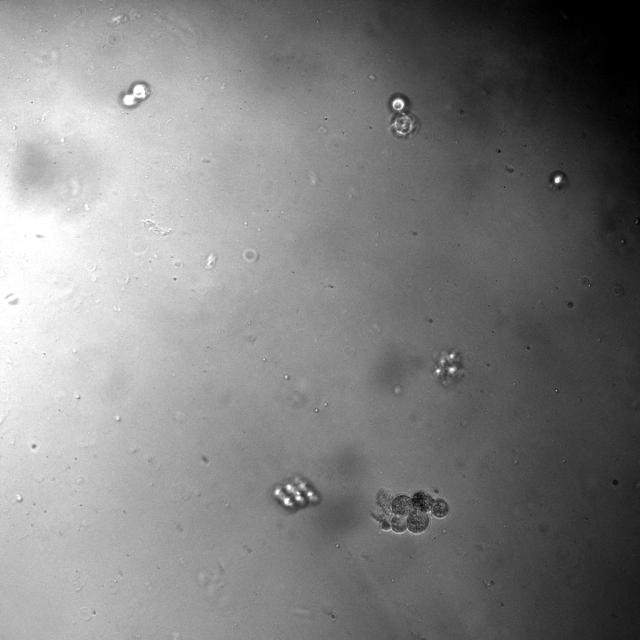organoid: (371, 487, 450, 535), (271, 476, 321, 512), (388, 92, 418, 139), (434, 349, 464, 385), (119, 81, 151, 108), (549, 170, 568, 190)
